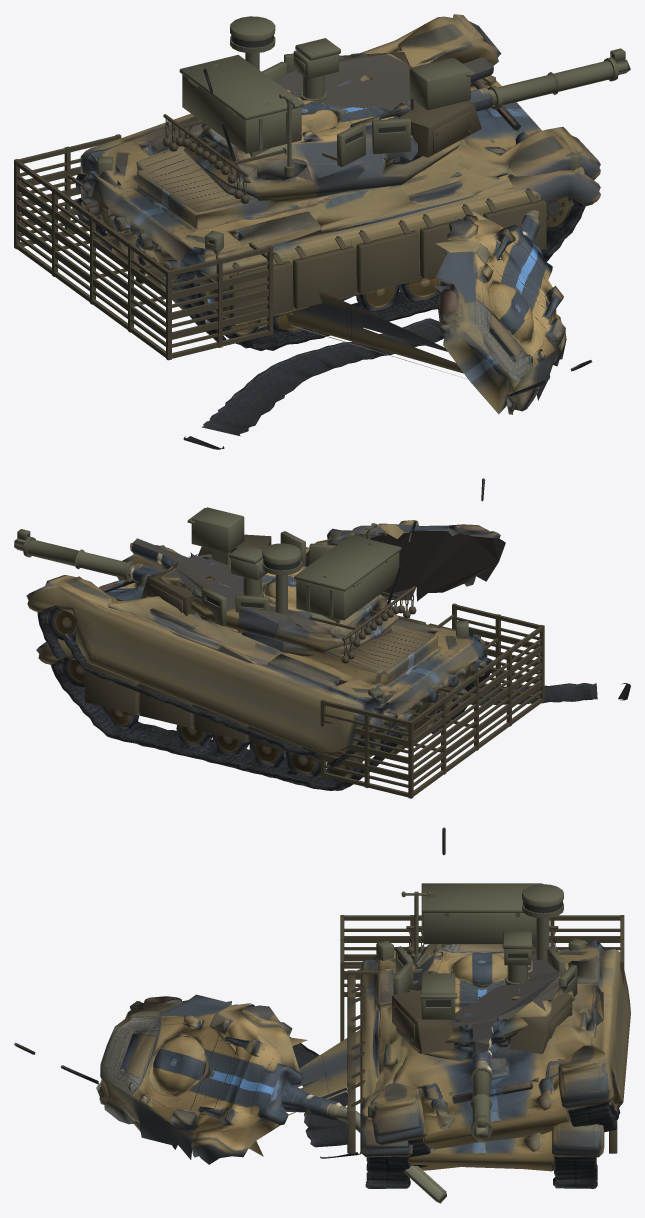
The model's file is mbt_lavi.glb.
3 renders of one model, top to bottom at view 1: azimuth 30°, elevation 25°; view 2: azimuth 150°, elevation 25°; view 3: azimuth 270°, elevation 25°, orthographic. The views are drawn at different scales.
Visible parts, largest first — view 1: hull_hull, WRECK_hull_hull, WRECK_turret_hull, kit_armour_2_hull_hull, kit_armour_3_hull_hull, kit_firepower_3_turret_hull, turret_hull, kit_armour_3_hull_hull_far, kit_armour_3_hull_hull_near, WRECK_hull_rubber, hull_rubber, kit_firepower_2_turret_metal (+9 smaller); view 2: WRECK_hull_hull, hull_hull, WRECK_turret_hull, hull_rubber, kit_armour_3_hull_hull, kit_firepower_3_turret_hull, kit_armour_3_hull_hull_far, kit_armour_3_hull_hull_near, kit_armour_2_hull_hull, WRECK_hull_rubber, turret_hull, kit_firepower_2_turret_metal (+7 smaller); view 3: WRECK_hull_hull, WRECK_turret_hull, hull_hull, kit_firepower_3_turret_hull, turret_hull, kit_armour_1_turret_hull, WRECK_turret_metal, kit_armour_3_hull_hull, kit_armour_2_hull_hull, kit_firepower_2_turret_metal, WRECK_hull_rubber, kit_sensors_3_turret_metal (+8 smaller).
Part boxes in pixels (box(x1,y1,x2,y2)): hull_hull: box(76, 95, 600, 335); WRECK_hull_hull: box(75, 14, 600, 378); WRECK_turret_hull: box(434, 211, 566, 414); kit_armour_2_hull_hull: box(229, 188, 546, 317); kit_armour_3_hull_hull: box(14, 134, 273, 360); kit_firepower_3_turret_hull: box(179, 54, 304, 157); turret_hull: box(185, 75, 417, 183); kit_armour_3_hull_hull_far: box(17, 166, 268, 339); kit_armour_3_hull_hull_near: box(17, 158, 268, 347); WRECK_hull_rubber: box(183, 295, 444, 449); hull_rubber: box(224, 249, 553, 350); kit_firepower_2_turret_metal: box(279, 57, 475, 176); WRECK_hull_hull: box(26, 538, 468, 767); hull_hull: box(36, 572, 492, 776); WRECK_turret_hull: box(306, 520, 505, 601); hull_rubber: box(79, 702, 362, 790); kit_armour_3_hull_hull: box(320, 603, 544, 798); kit_firepower_3_turret_hull: box(294, 535, 401, 623); kit_armour_3_hull_hull_far: box(324, 625, 542, 780); kit_armour_3_hull_hull_near: box(324, 617, 542, 787); kit_armour_2_hull_hull: box(84, 615, 480, 761); WRECK_hull_rubber: box(62, 633, 630, 757); turret_hull: box(203, 556, 398, 643); kit_firepower_2_turret_metal: box(187, 507, 377, 564); WRECK_hull_hull: box(289, 940, 630, 1167); WRECK_turret_hull: box(96, 994, 307, 1164); hull_hull: box(360, 944, 604, 1178); kit_firepower_3_turret_hull: box(421, 883, 542, 948); turret_hull: box(411, 944, 536, 1046); kit_armour_1_turret_hull: box(392, 990, 572, 1053); WRECK_turret_metal: box(14, 1042, 446, 1203); kit_armour_3_hull_hull: box(340, 915, 624, 1041); kit_armour_2_hull_hull: box(347, 967, 617, 1153); kit_firepower_2_turret_metal: box(401, 891, 456, 1021); WRECK_hull_rubber: box(231, 1004, 620, 1158); kit_sensors_3_turret_metal: box(522, 884, 563, 959).
Size of the model in its own units: 8.58 by 3.82 by 8.63.
1 material, 1 textured.
